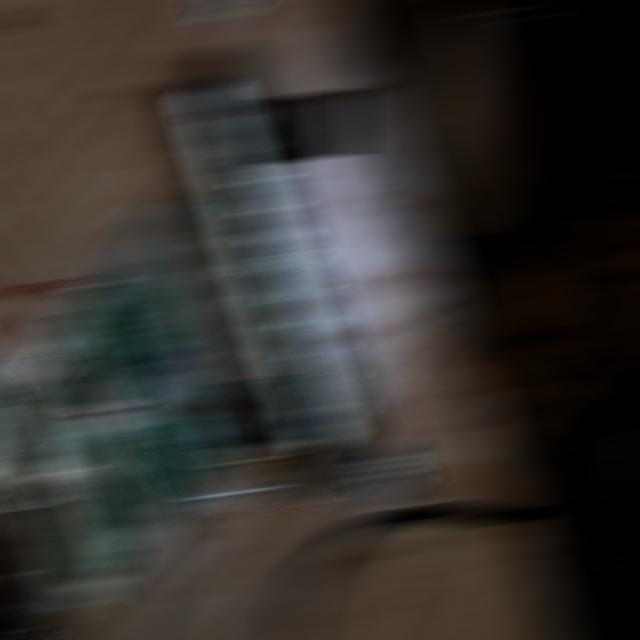Phillips_Block: (152, 41, 380, 492)
Terminal_1: (46, 486, 118, 582), (13, 378, 85, 473)
Terminal_2: (81, 287, 151, 377), (58, 312, 127, 403), (97, 437, 167, 526), (122, 411, 191, 500), (148, 384, 216, 474)
